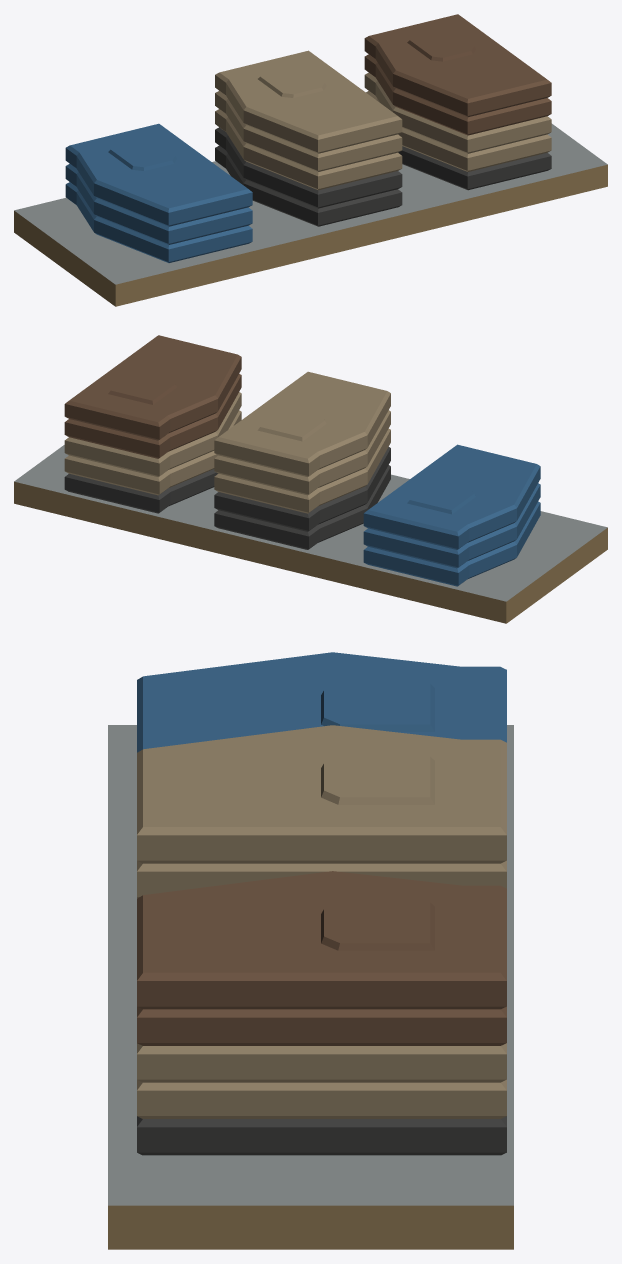
Rendered from SM_Props_Interior_Shop_Clothes_Rack_01.fbx.
3 renders of one model, top to bottom at view 1: azimuth 30°, elevation 25°; view 2: azimuth 150°, elevation 25°; view 3: azimuth 270°, elevation 25°, orthographic. The views are drawn at different scales.
Visible parts, largest first — view 1: SM_Props_Interior_Shop_Clothes_Rack_01; view 2: SM_Props_Interior_Shop_Clothes_Rack_01; view 3: SM_Props_Interior_Shop_Clothes_Rack_01.
Boxes of the visible parts, left/top/right/bottom form: SM_Props_Interior_Shop_Clothes_Rack_01: left=14, top=14, right=607, bottom=306; SM_Props_Interior_Shop_Clothes_Rack_01: left=14, top=335, right=607, bottom=623; SM_Props_Interior_Shop_Clothes_Rack_01: left=108, top=652, right=513, bottom=1249.
Size of the model in its own units: 140 by 31.59 by 50.
